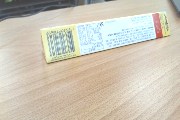Chocolate: (36, 13, 174, 64)
